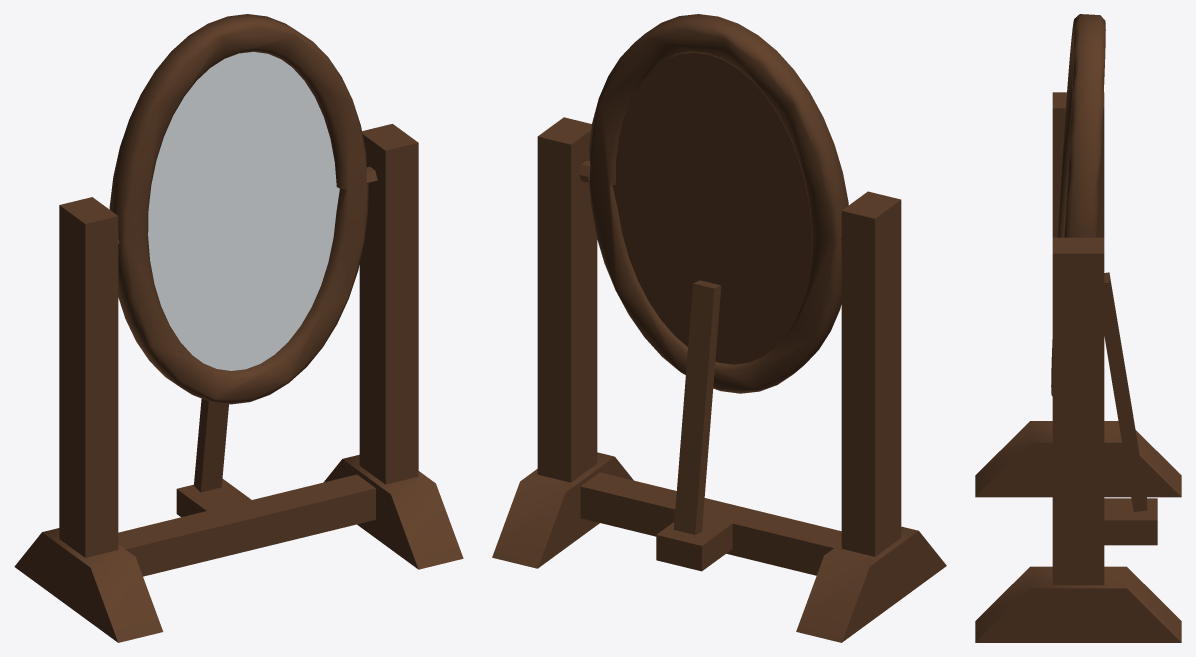
Rendered from MirrorStandM03.glb.
3 views of the same model, side by side, from view 1: azimuth 30°, elevation 25°; view 2: azimuth 150°, elevation 25°; view 3: azimuth 270°, elevation 25° (orthographic).
Parts seen in each view (by area): view 1: Body_Wood, Body_Mirror; view 2: Body_Wood; view 3: Body_Wood.
Part boxes in pixels (x1=…): Body_Wood: x1=14, y1=14, x2=463, y2=642; Body_Mirror: x1=148, y1=51, x2=339, y2=370; Body_Wood: x1=492, y1=14, x2=946, y2=642; Body_Wood: x1=975, y1=14, x2=1181, y2=642.
Size of the model in its own units: 2.3 by 3.43 by 1.2.
